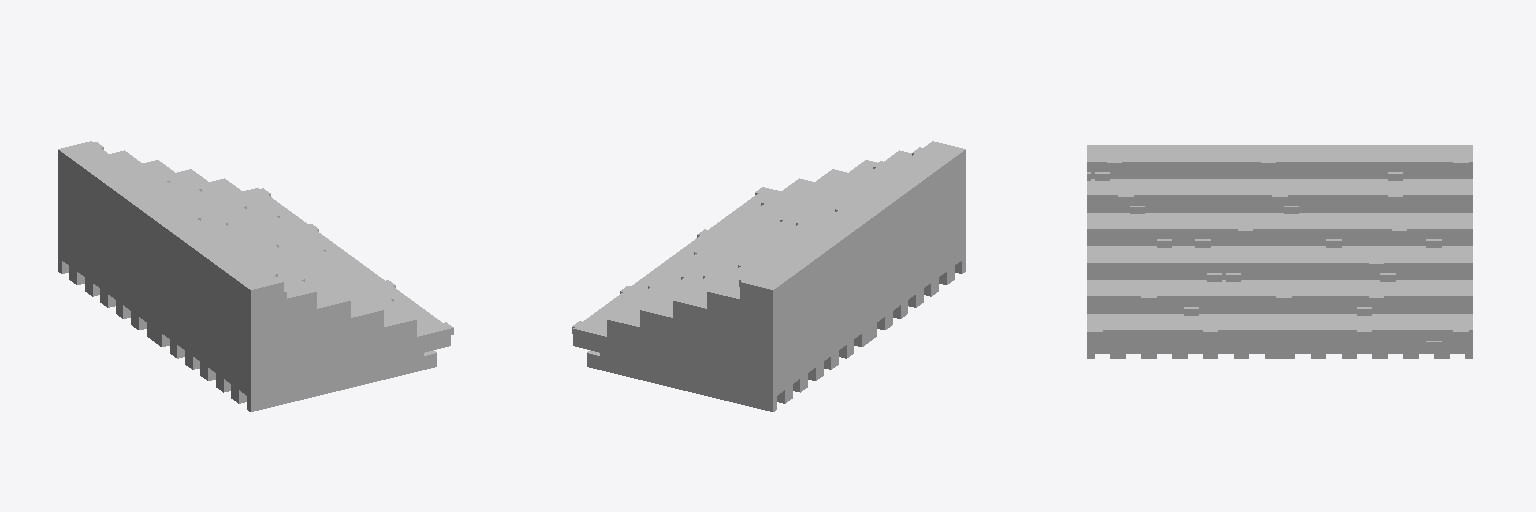
The model's file is House-3-House Ceil.obj.
3 renders of one model, left to right at view 1: azimuth 30°, elevation 25°; view 2: azimuth 150°, elevation 25°; view 3: azimuth 270°, elevation 25°, orthographic.
Visible parts, largest first — view 1: House Ceil; view 2: House Ceil; view 3: House Ceil.
Part boxes in pixels (x1,y1,x2,y2): House Ceil: (58,141,453,411); House Ceil: (572,141,965,411); House Ceil: (1087,145,1472,358).
Size of the model in its own units: 6.1 by 3.5 by 10.